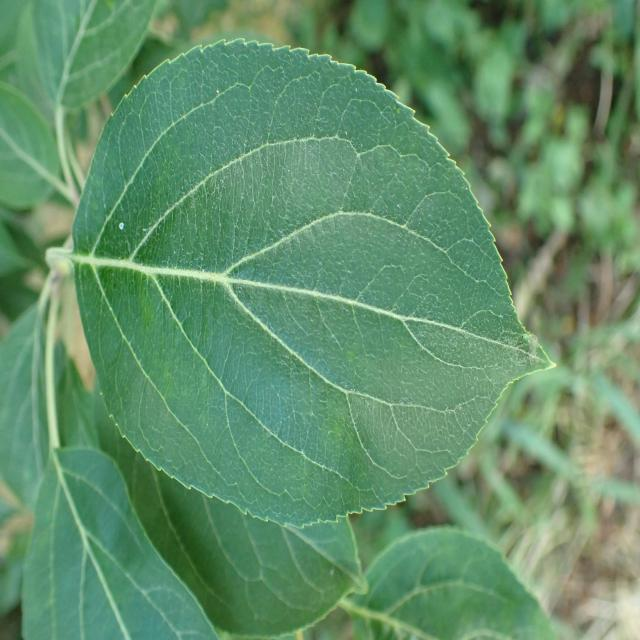healthy: (72, 37, 558, 529), (99, 429, 368, 640), (19, 445, 220, 640), (349, 525, 555, 640), (31, 0, 158, 109)
